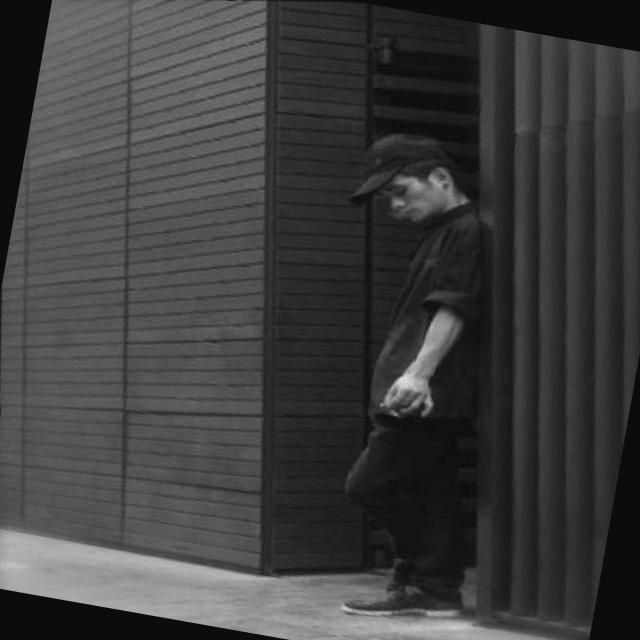cigarette: (375, 397, 408, 425)
